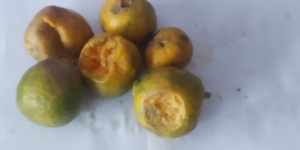BAD: (130, 68, 207, 137), (15, 57, 80, 128), (21, 5, 94, 68), (71, 30, 138, 97), (98, 1, 155, 54), (143, 27, 195, 71)
